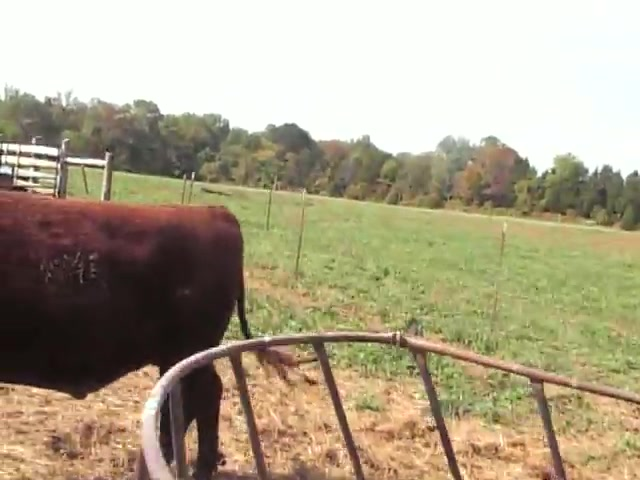cow: (2, 185, 316, 480)
